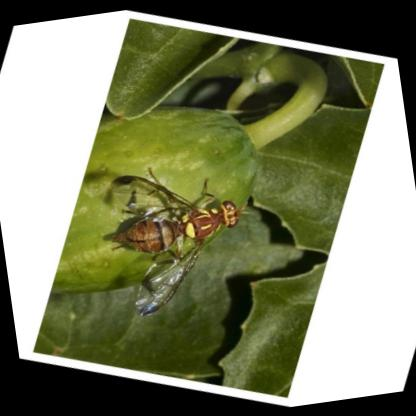fruit fly: (109, 169, 247, 315)
